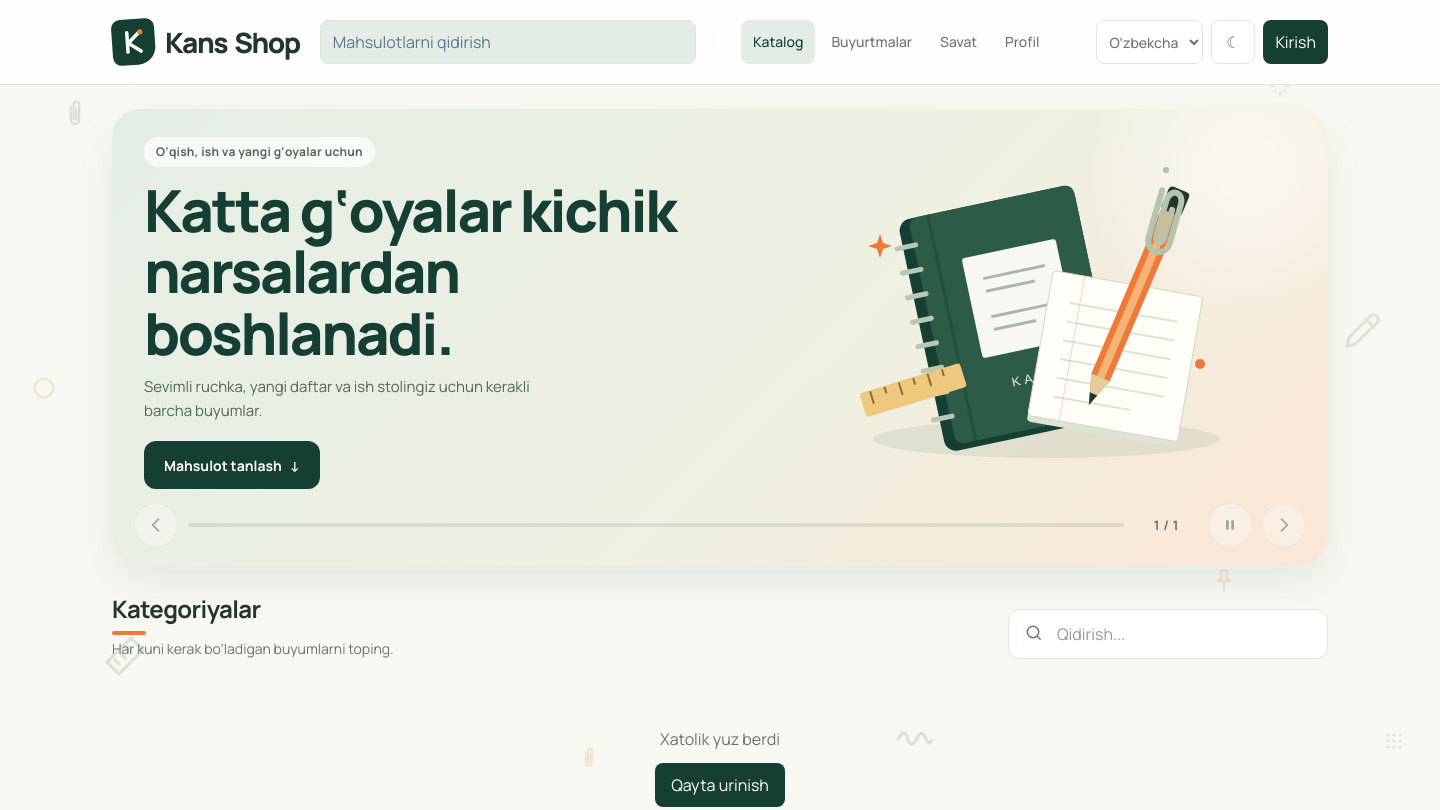
Test: responsive storefront shell › switches the language with an explicit accessible label
Select "Русский" in the dropdown named "Til" at (1150, 42), box [1096,20,1203,64]
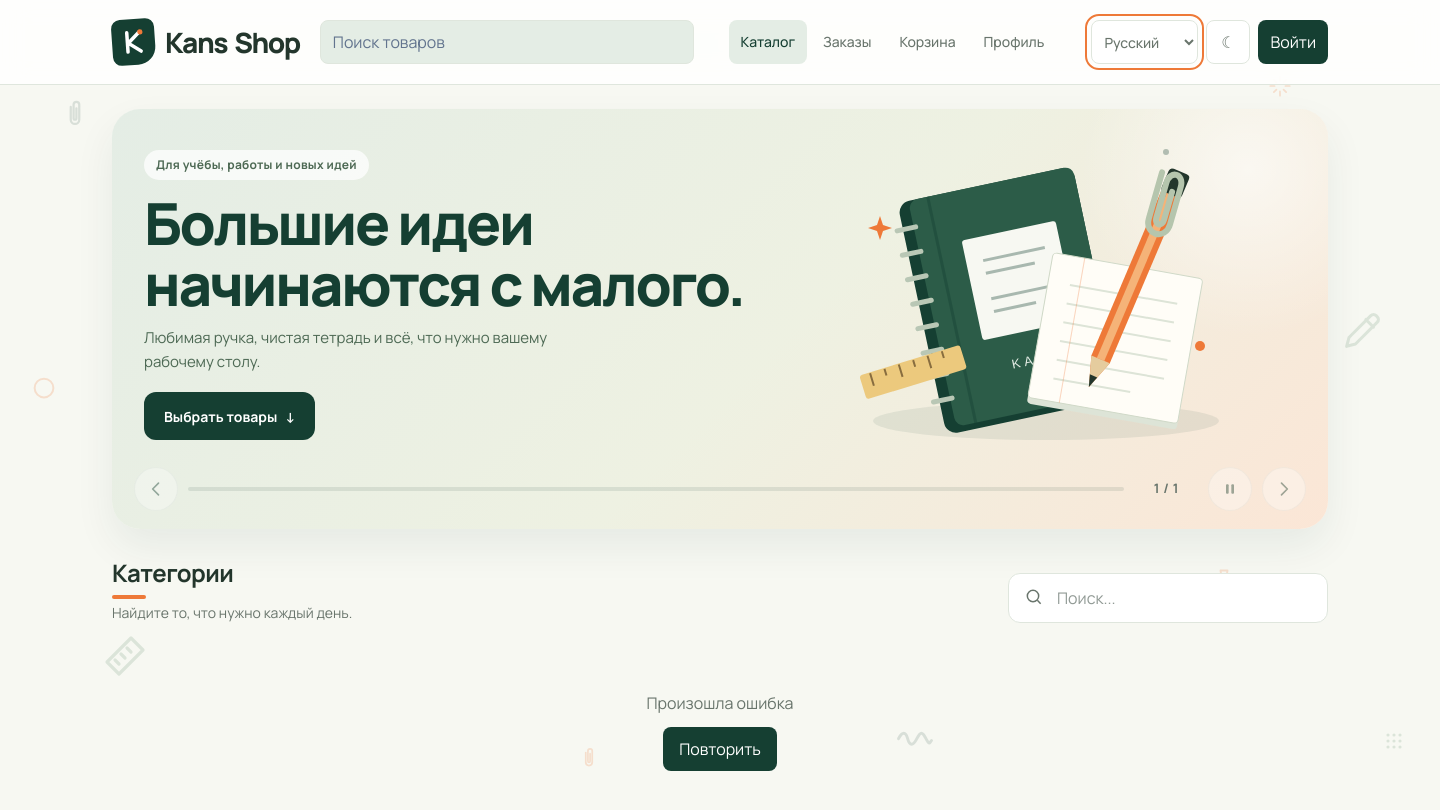
Result: the link "Каталог" is shown at [729,20,807,64]
Result: the link "Профиль" is shown at [984,32,1044,51]
